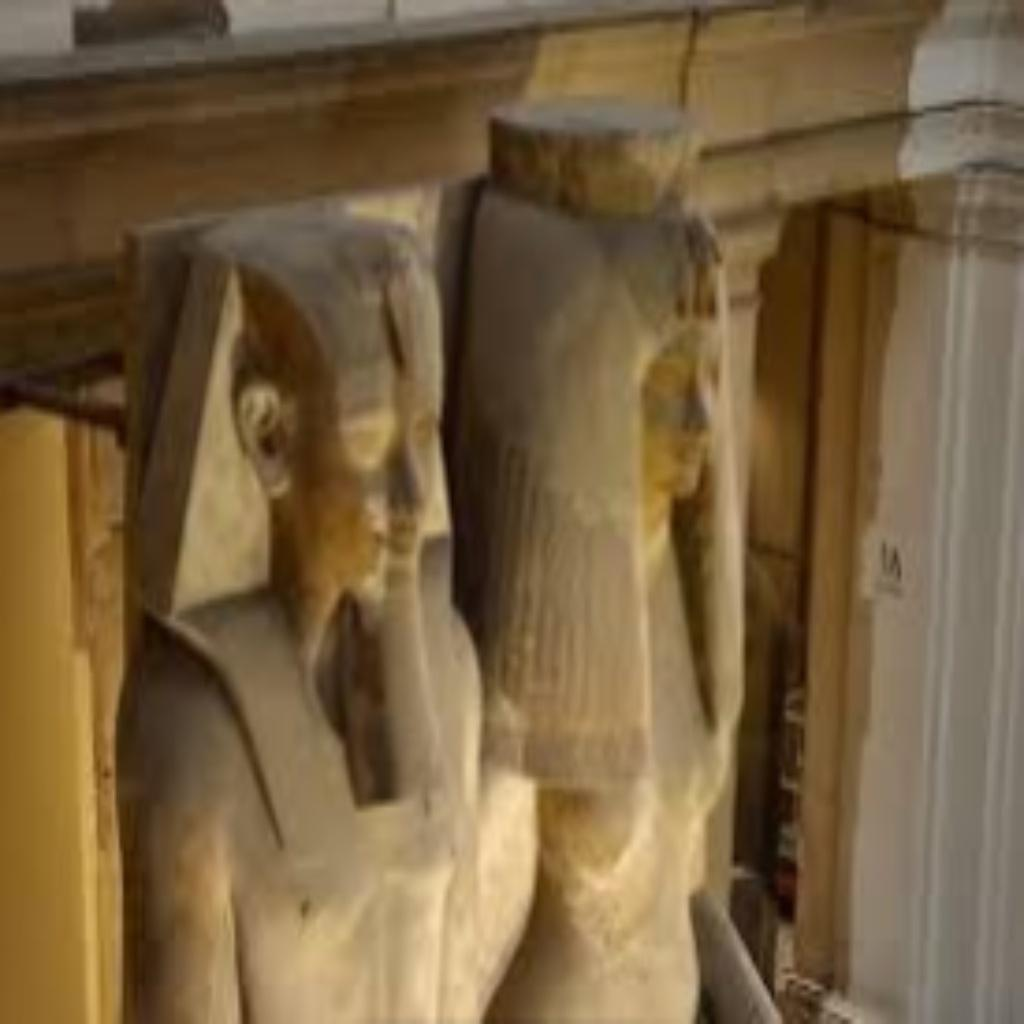Amenhotep III and Tiye: (112, 90, 748, 1018)
